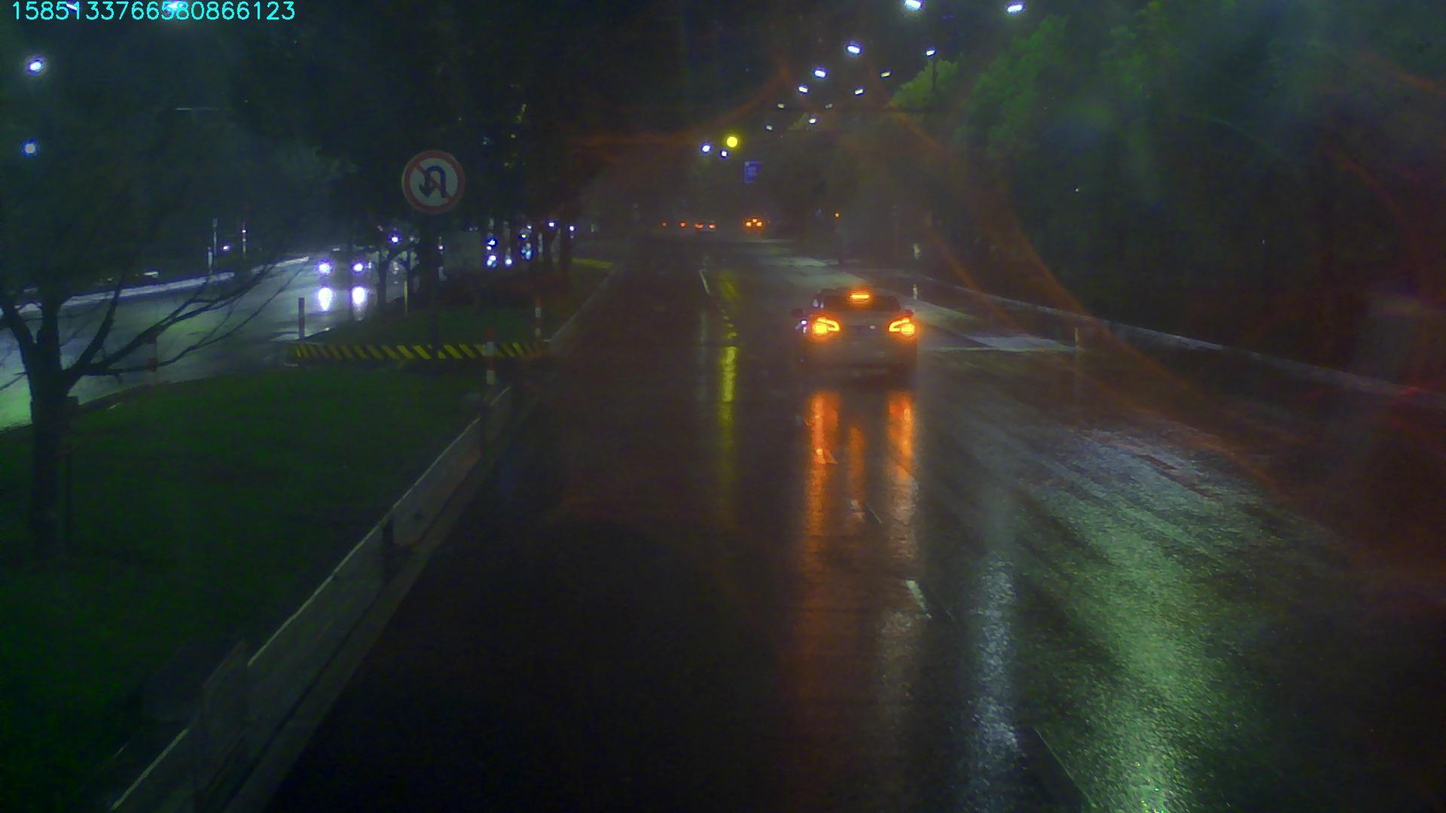yellow: (719, 129, 745, 146)
